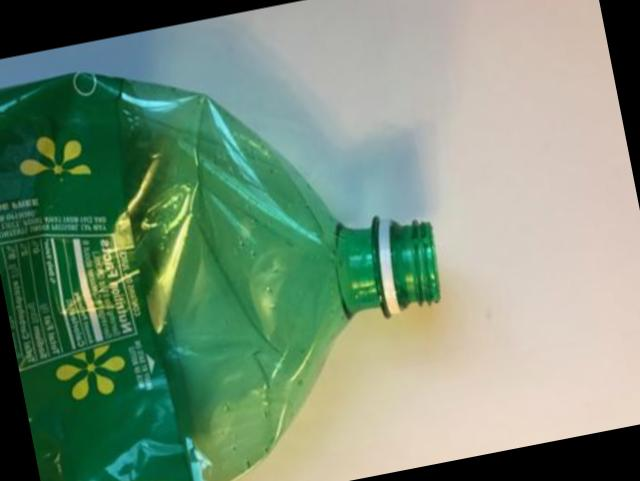plastic: (0, 69, 441, 481)
